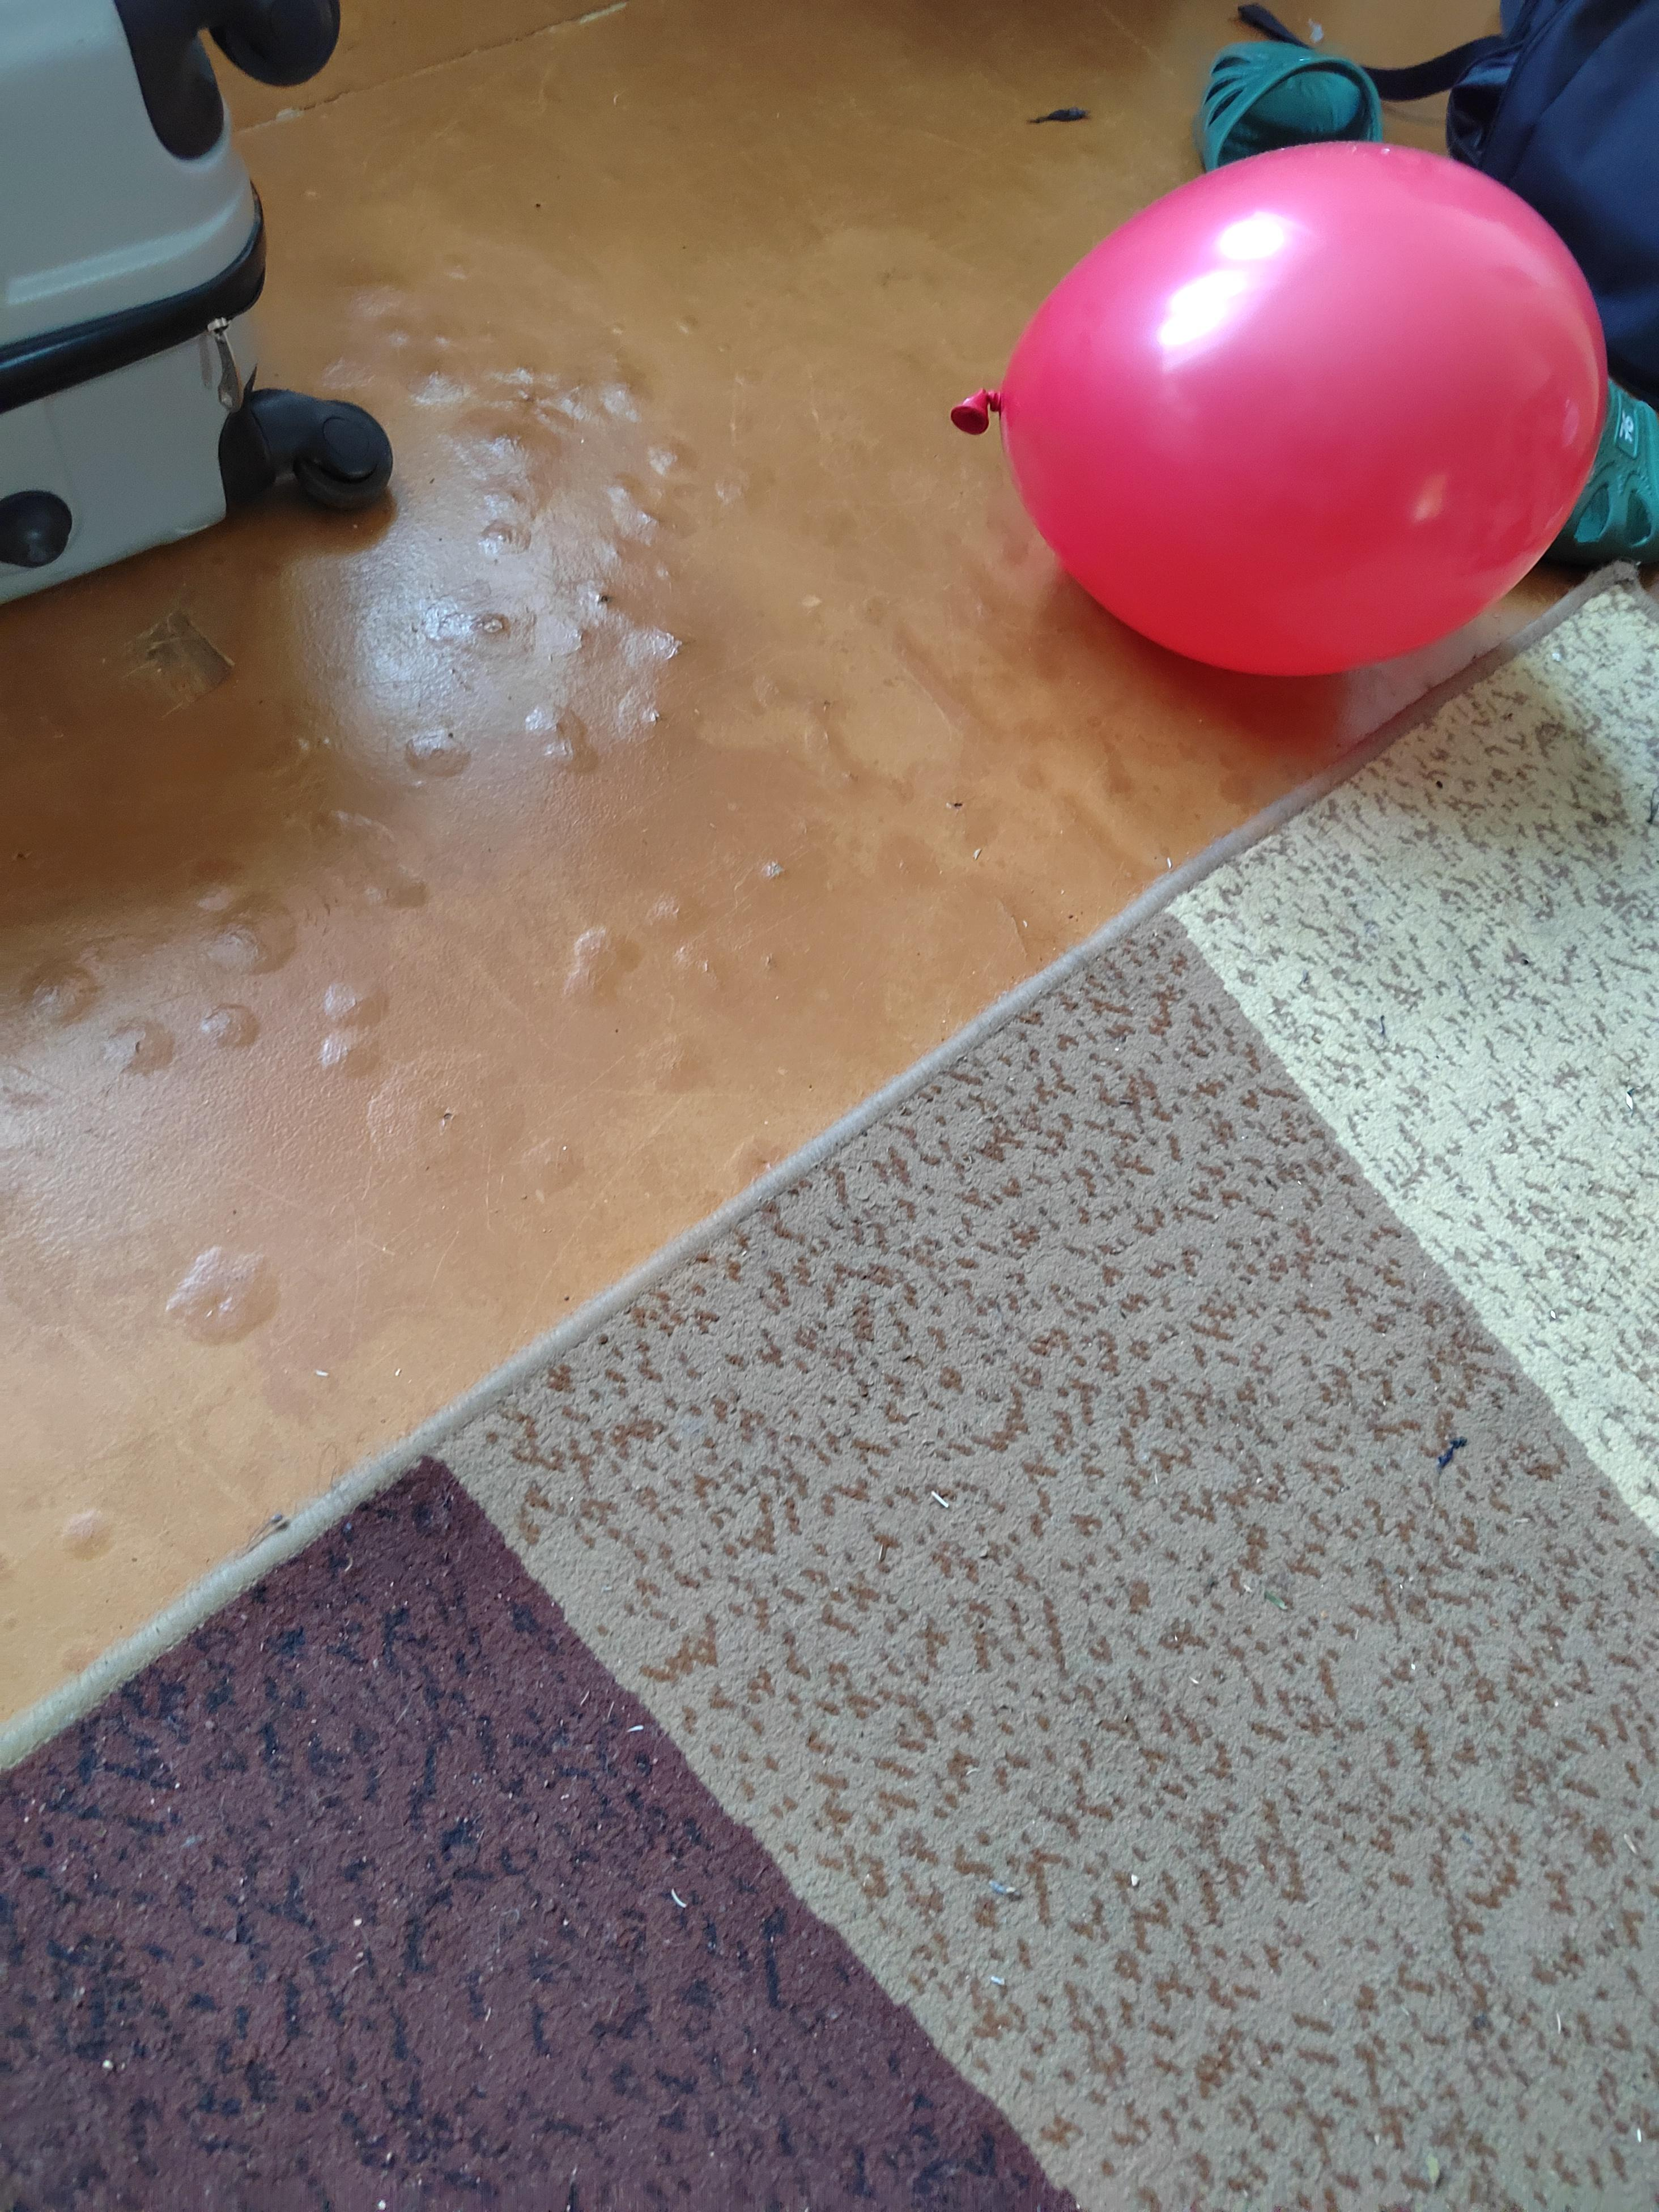red: (925, 115, 1624, 709)
